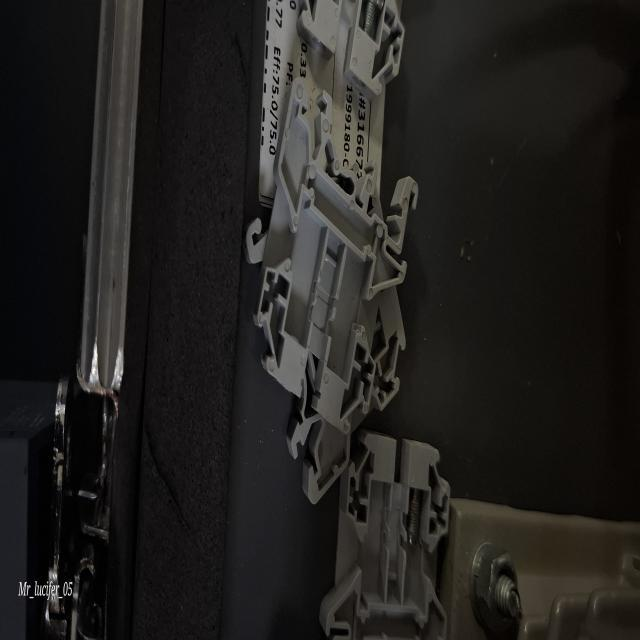Reject: (256, 53, 422, 424), (320, 409, 453, 640)
